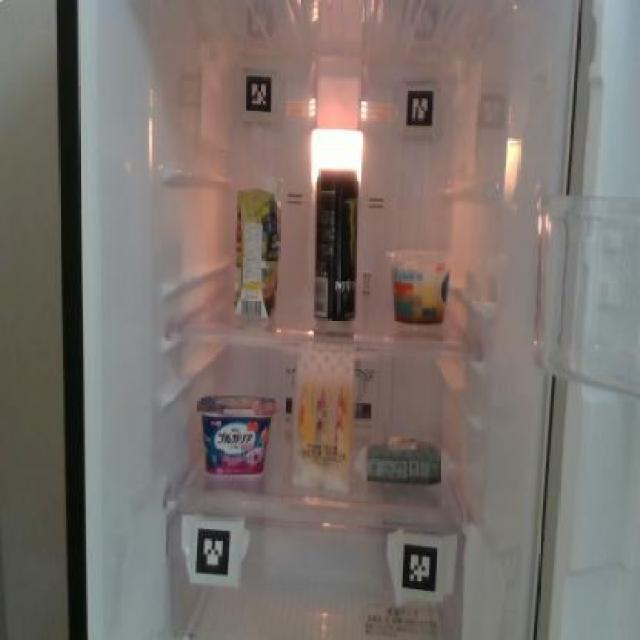energy_drink: (313, 162, 359, 324)
pudding: (385, 245, 452, 326)
rice_ball: (362, 428, 443, 488)
sandwich: (292, 343, 356, 491)
smoothie: (232, 166, 283, 319)
yogurt: (192, 391, 277, 478)
